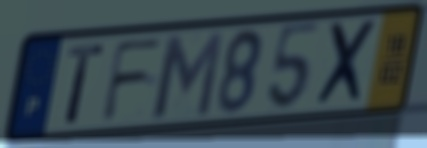5: (264, 19, 325, 115)
8: (214, 26, 264, 117)
F: (99, 35, 168, 126)
M: (150, 28, 227, 121)
T: (63, 41, 106, 126)
X: (312, 17, 380, 110)
